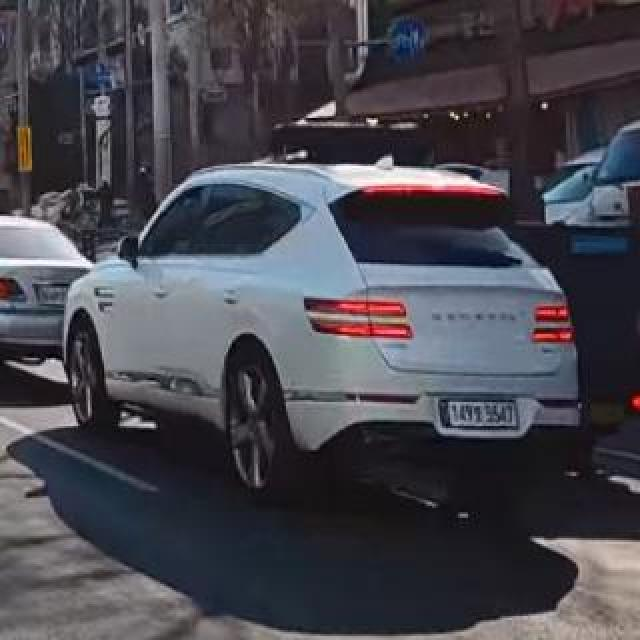car: (60, 146, 592, 511)
illegal_plate: (441, 396, 521, 434)
